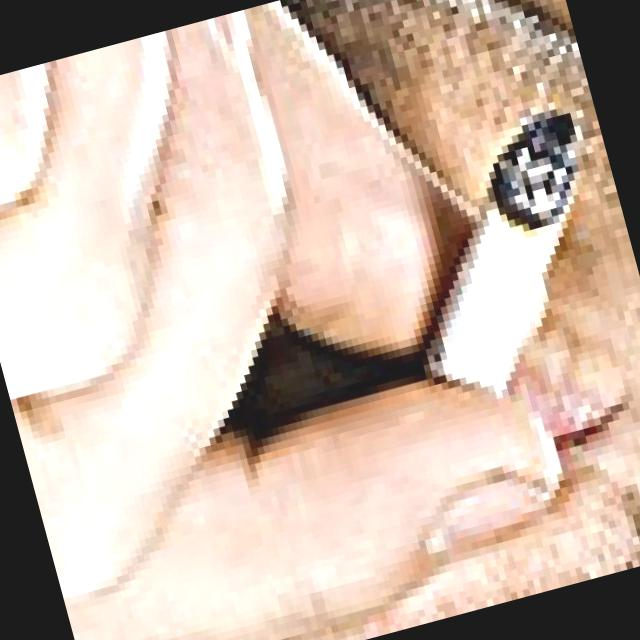cigarette: (374, 102, 640, 413)
